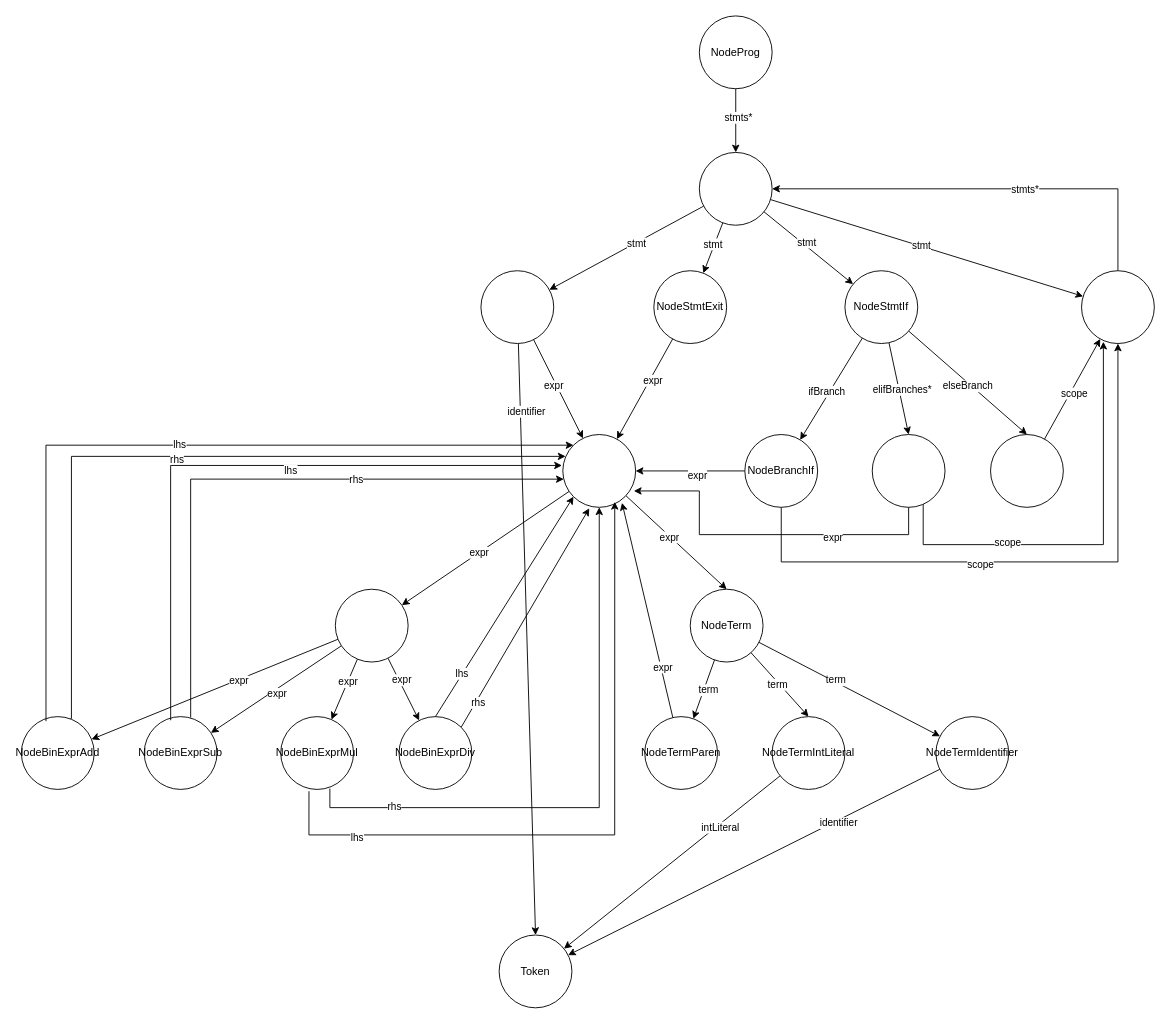
Some shapes in this 1170 by 1024 pixel diagram are drawn without their labels. The centre of each missing label's shape, as x and y in pixels:
"NodeBinExpr" goes at (x=371, y=625).
"NodeBranchElif" goes at (x=908, y=470).
"NodeBranchElse" goes at (x=1026, y=470).
"NodeExpr" goes at (x=599, y=470).
"NodeScope" goes at (x=1117, y=307).
"NodeStmt" goes at (x=735, y=188).
"NodeStmtLet" goes at (x=517, y=307).
